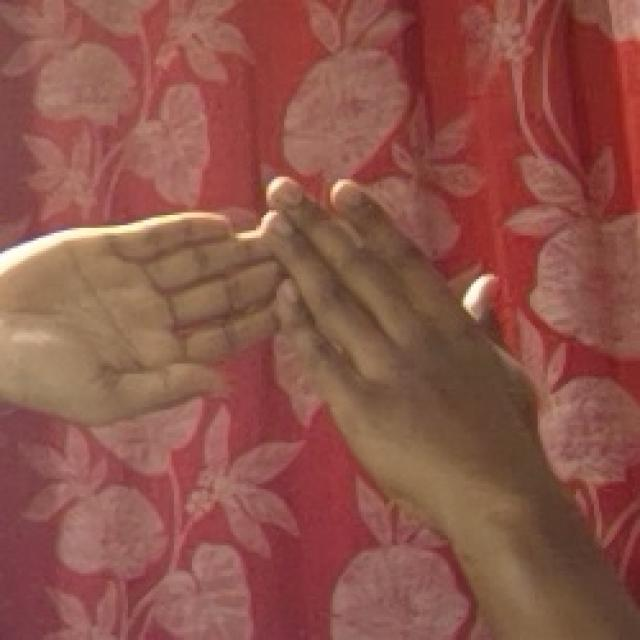Alphabet-H: (20, 169, 528, 506)
